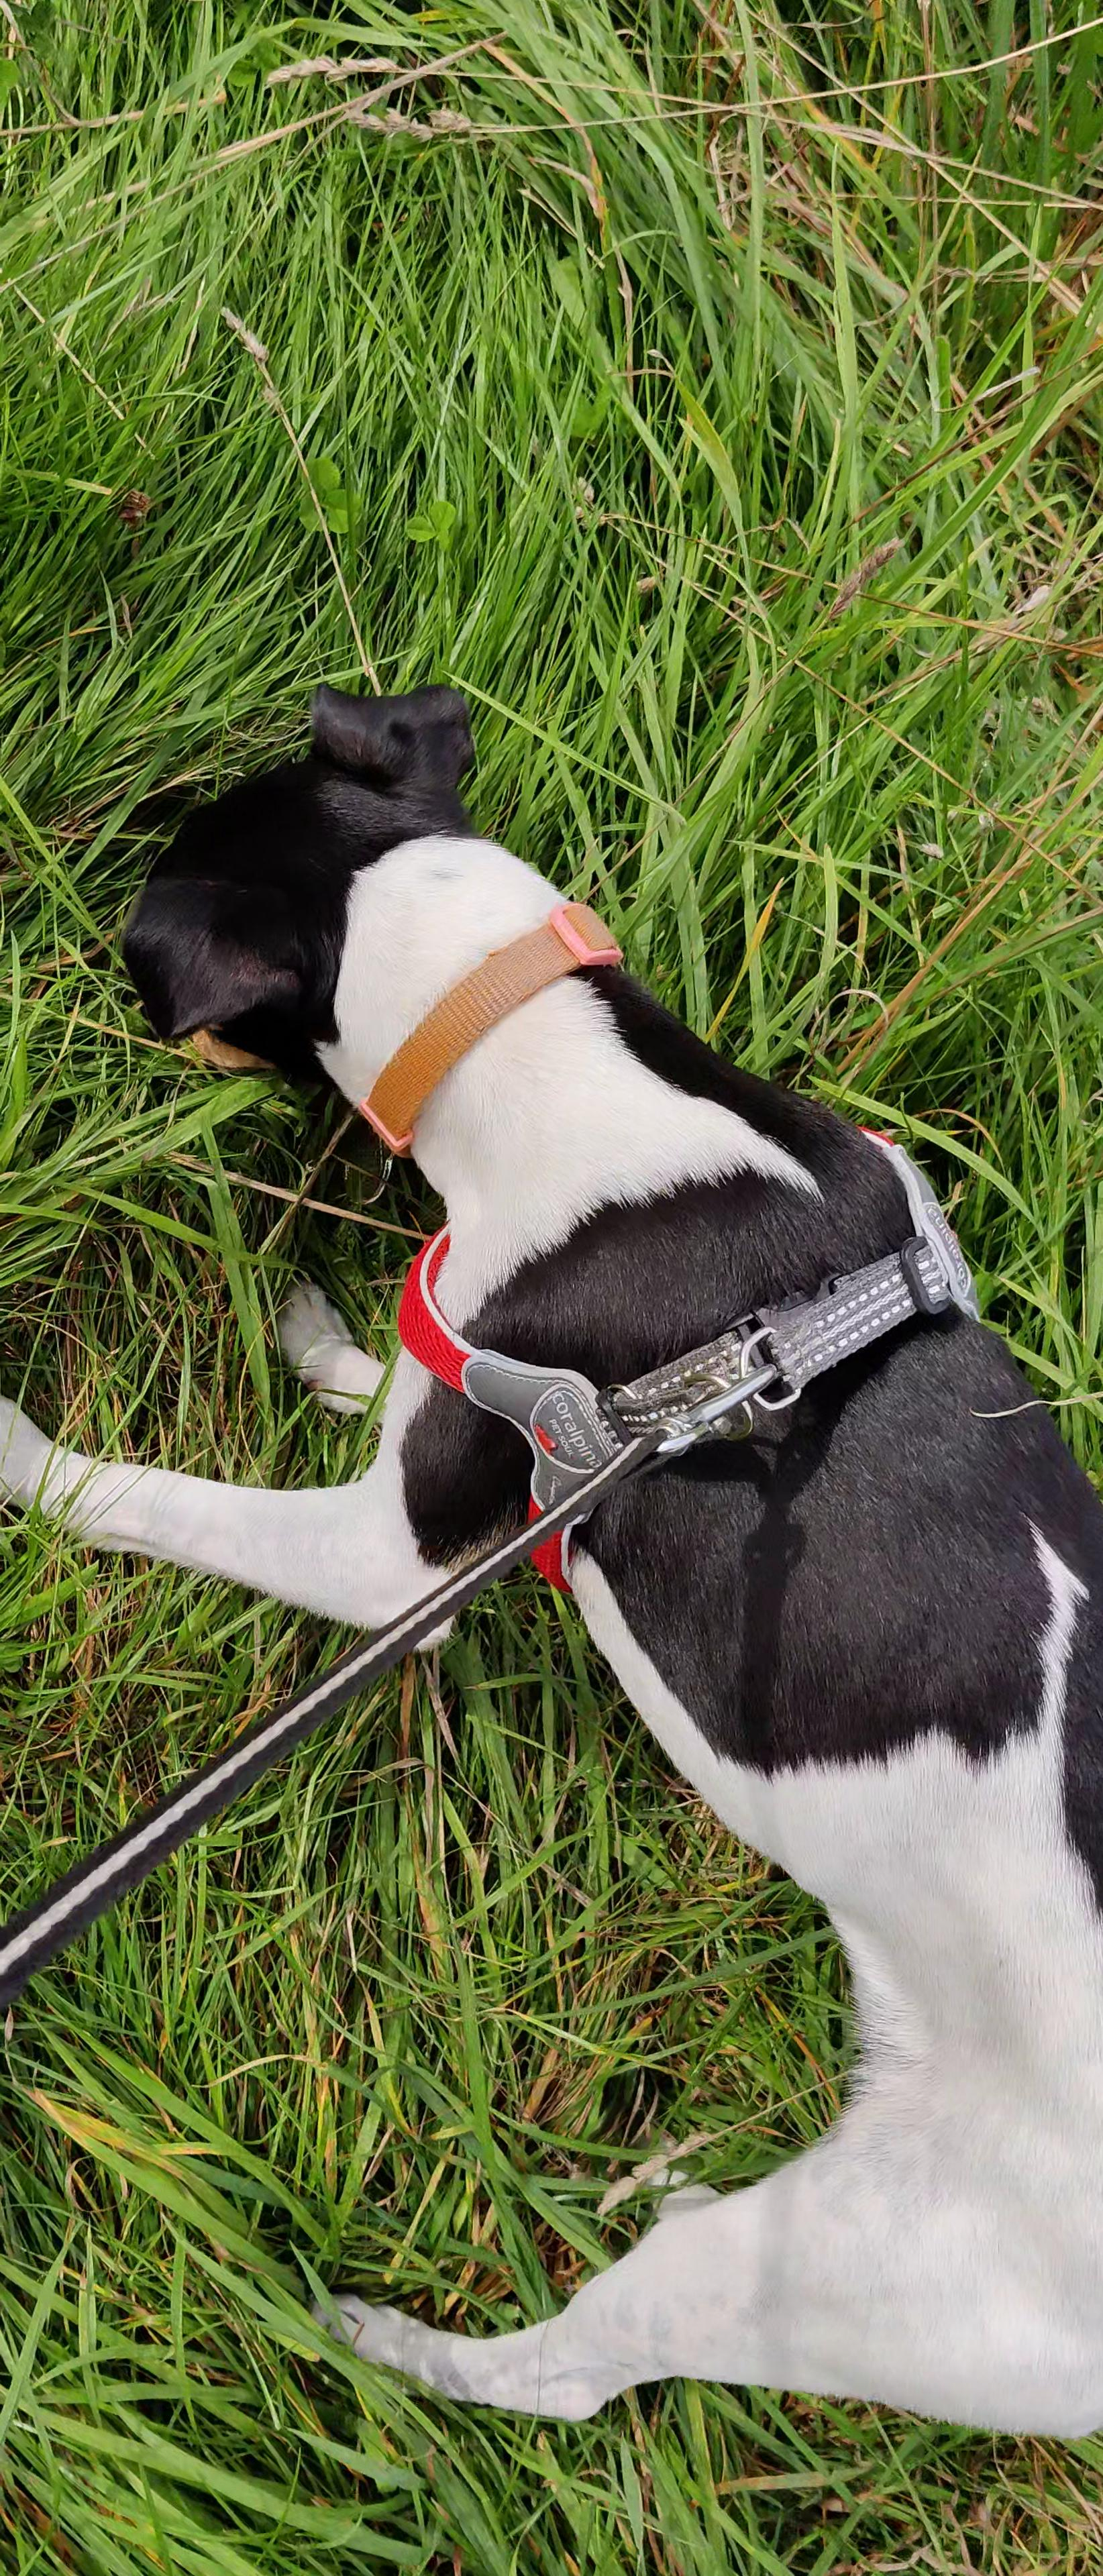Dog: (0, 641, 1103, 2500)
